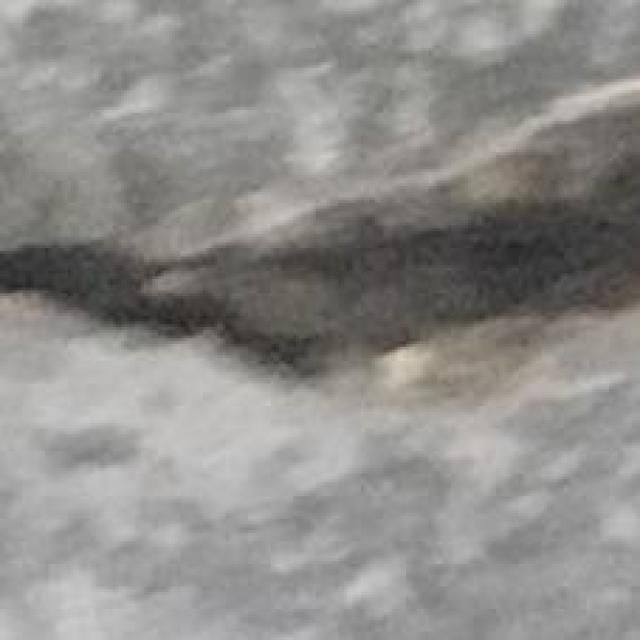horizontal crack: (0, 202, 639, 364)
